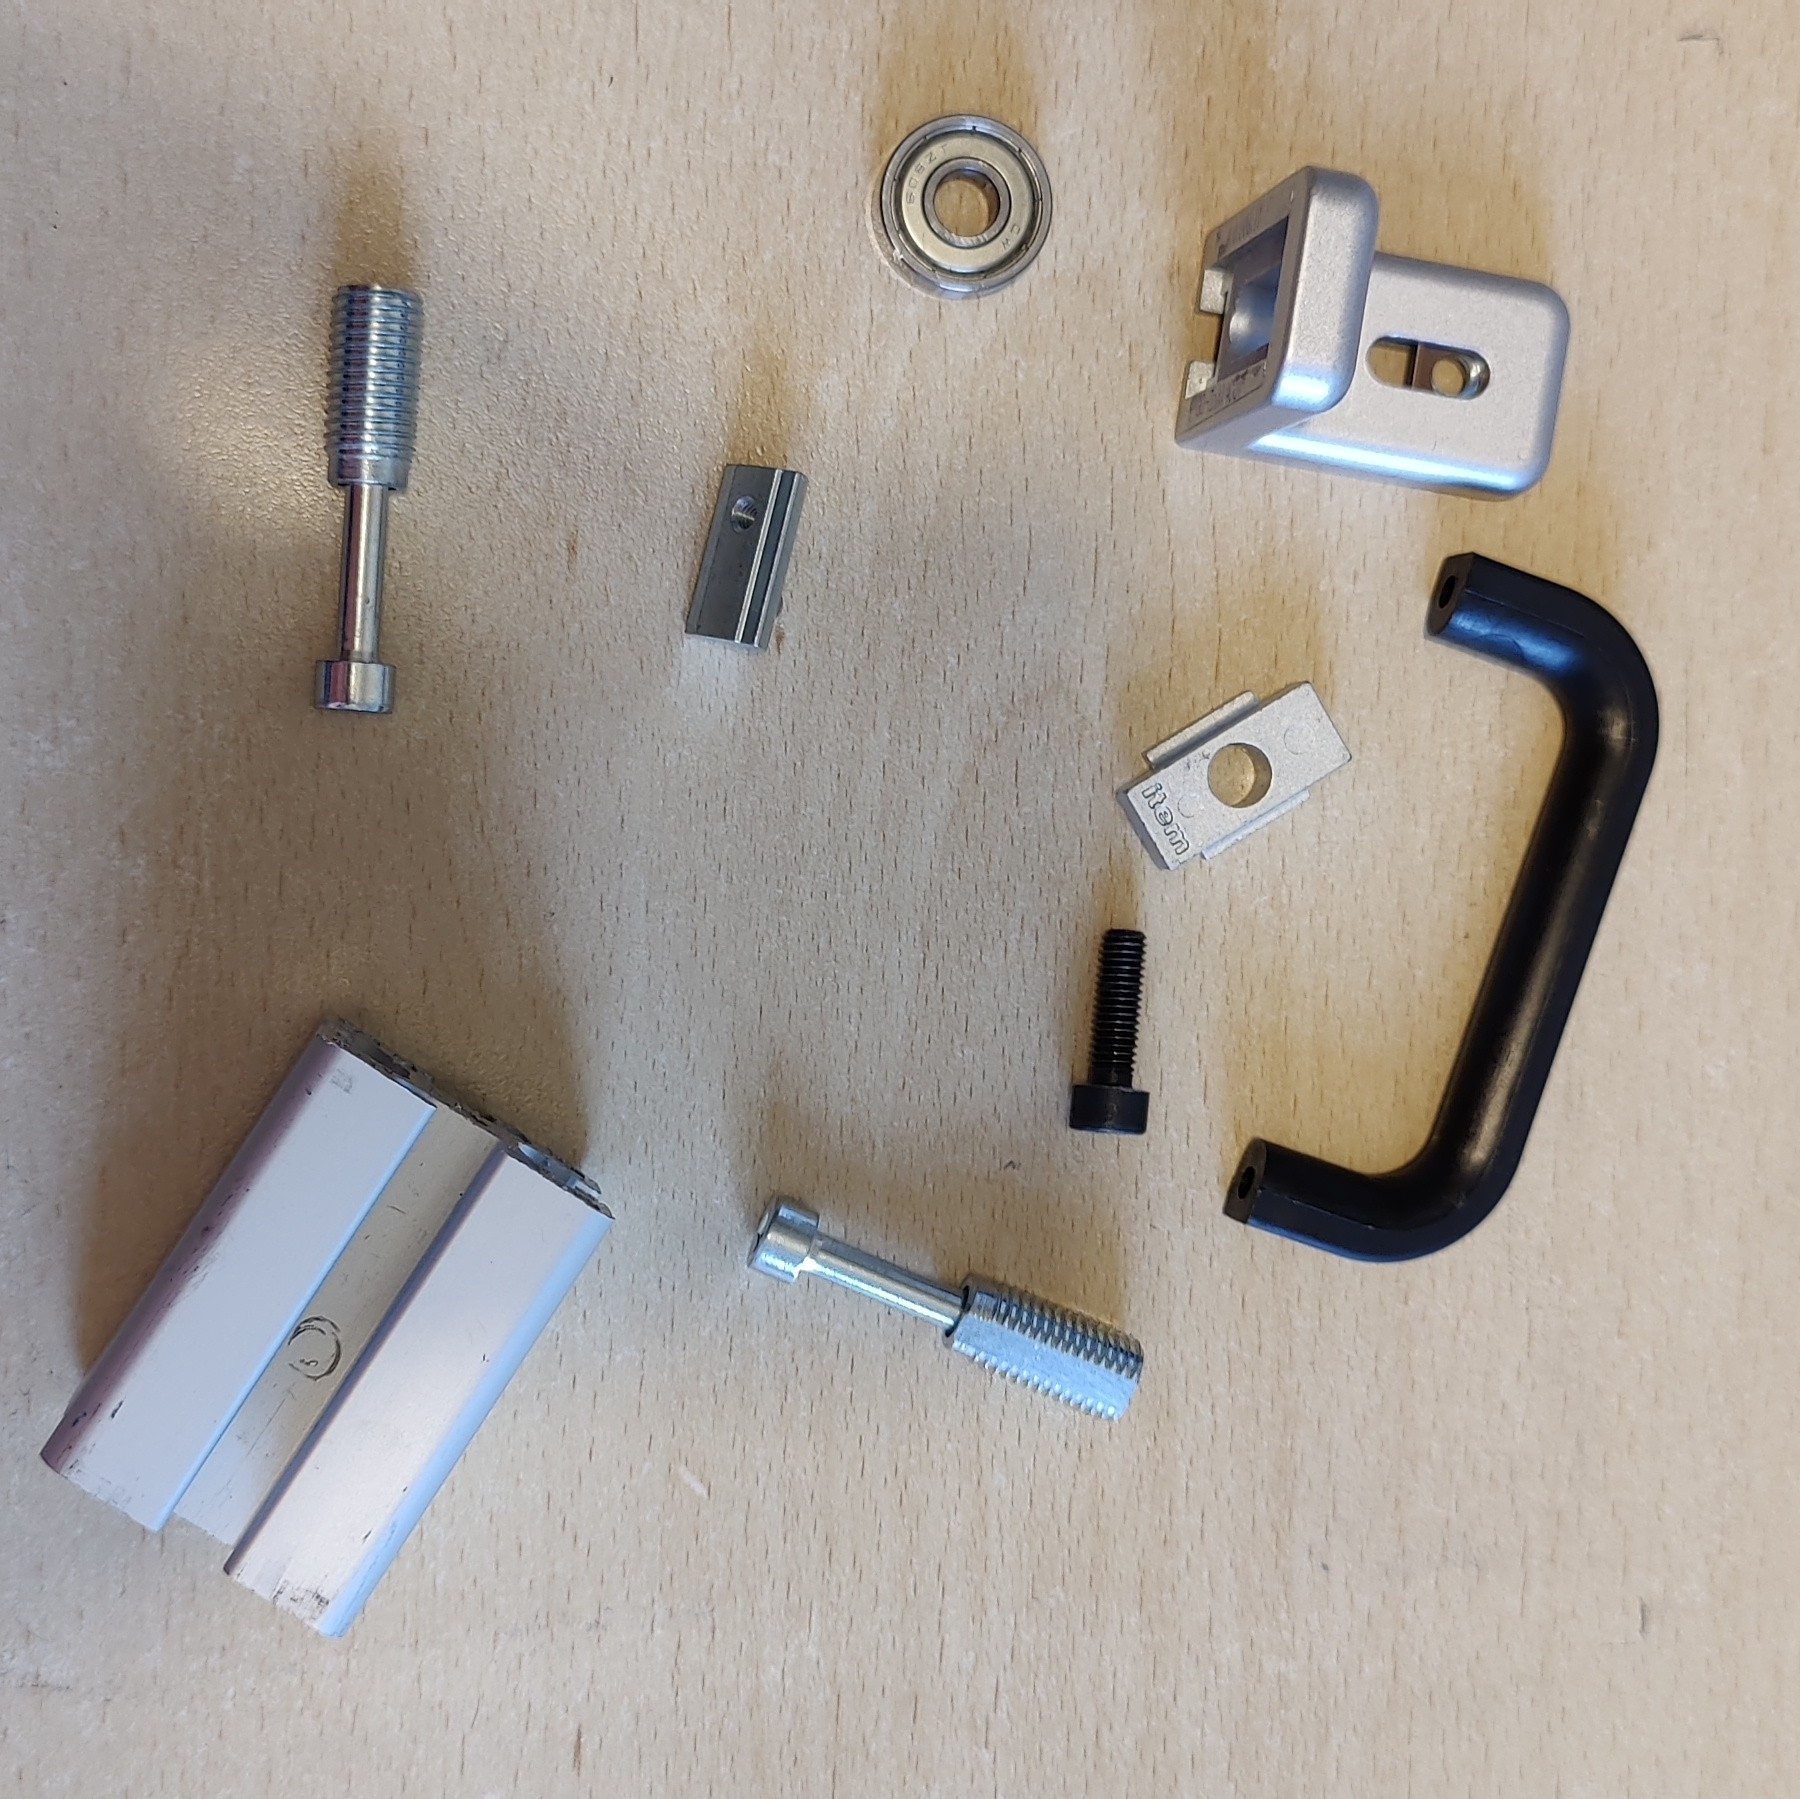Aluminium Extension: (38, 1012, 616, 1641)
Ball Bearing: (870, 114, 1056, 305)
Multiwinkel: (1169, 158, 1571, 506)
Pull Handle: (1219, 549, 1662, 1267)
Shoulder Socket Head Cap Screw: (743, 1189, 1146, 1427), (308, 280, 428, 718)
Socket Head Cap Screw: (1066, 924, 1156, 1137)
T Nut Square: (1112, 675, 1355, 876)
T Spring Nut: (677, 458, 812, 656)
